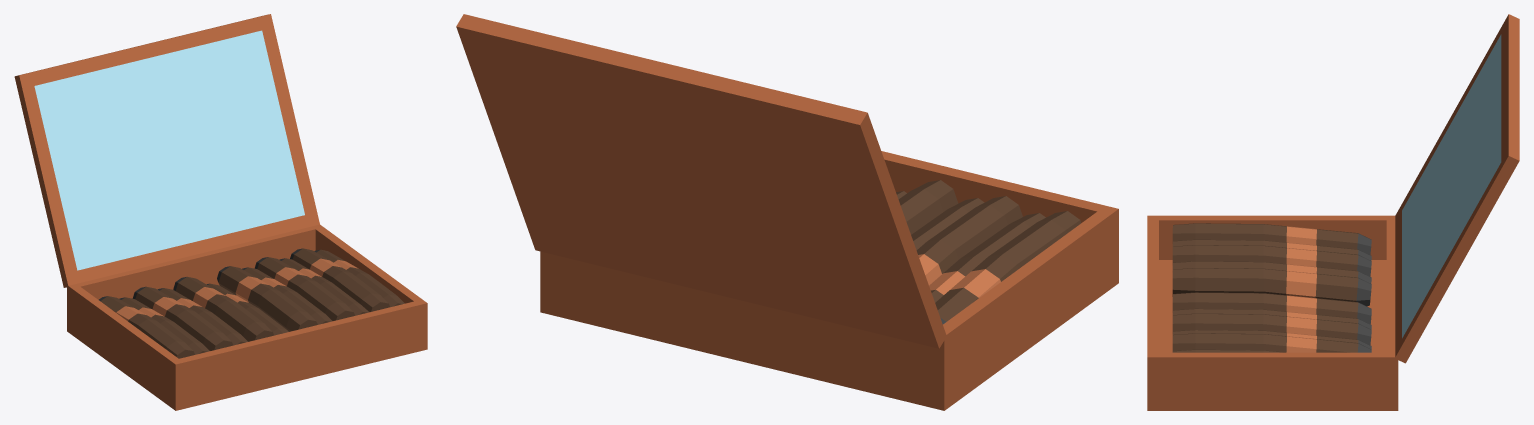
The model's file is Cigar_Box.fbx.
3 views of the same model, side by side, from view 1: azimuth 30°, elevation 25°; view 2: azimuth 150°, elevation 25°; view 3: azimuth 270°, elevation 25° (orthographic). The views are drawn at different scales.
Parts seen in each view (by area): view 1: Cylinder.004; view 2: Cylinder.004; view 3: Cylinder.004.
Boxes of the visible parts, x1=… form: Cylinder.004: x1=14, y1=14, x2=427, y2=410; Cylinder.004: x1=456, y1=14, x2=1118, y2=410; Cylinder.004: x1=1147, y1=14, x2=1519, y2=410.
Size of the model in its own units: 121 by 102 by 135.
